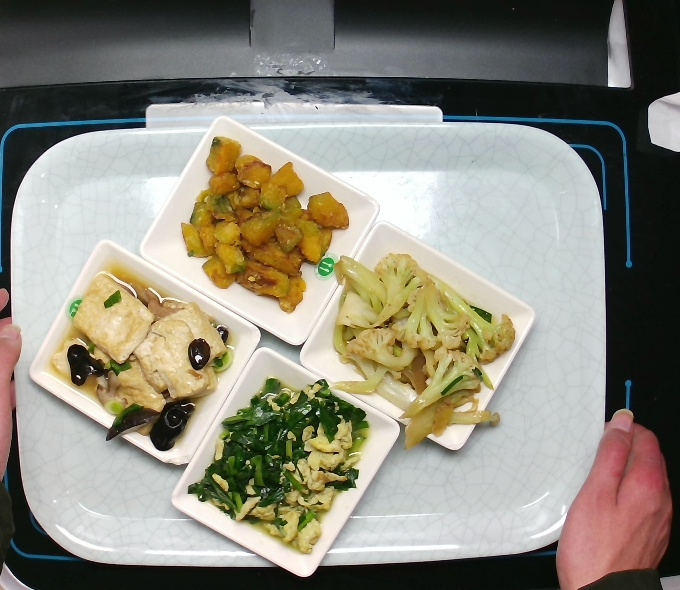wcq-DanHuangNanGua: (180, 126, 349, 320)
wcq-JiaChangDouFu: (51, 269, 226, 460)
wcq-JiuCaiJiDan: (188, 371, 376, 556)
wcq-QiuCai: (316, 242, 520, 442)
